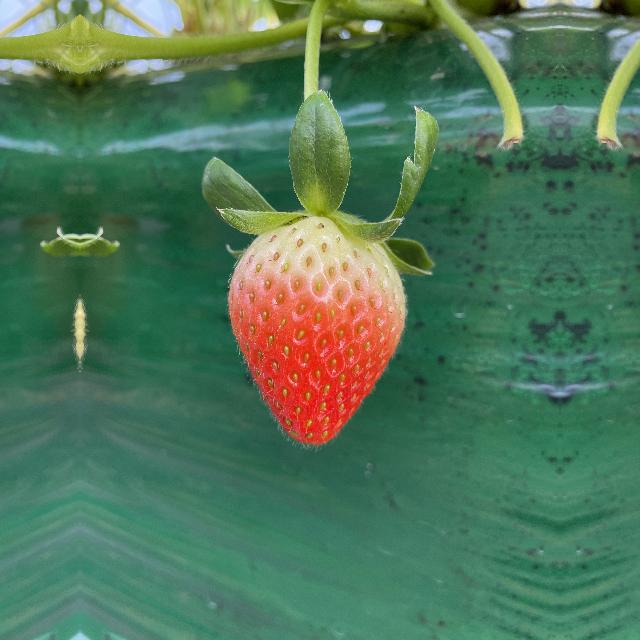Health_100: (208, 206, 414, 462)
